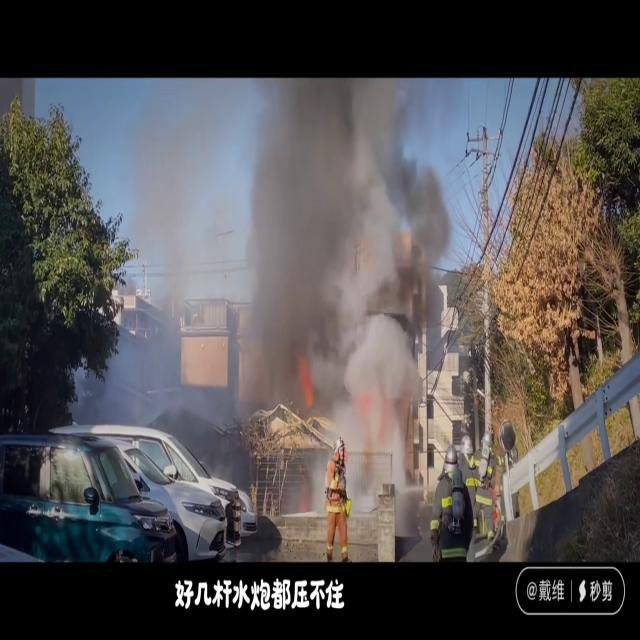Smoke: (225, 78, 456, 446)
